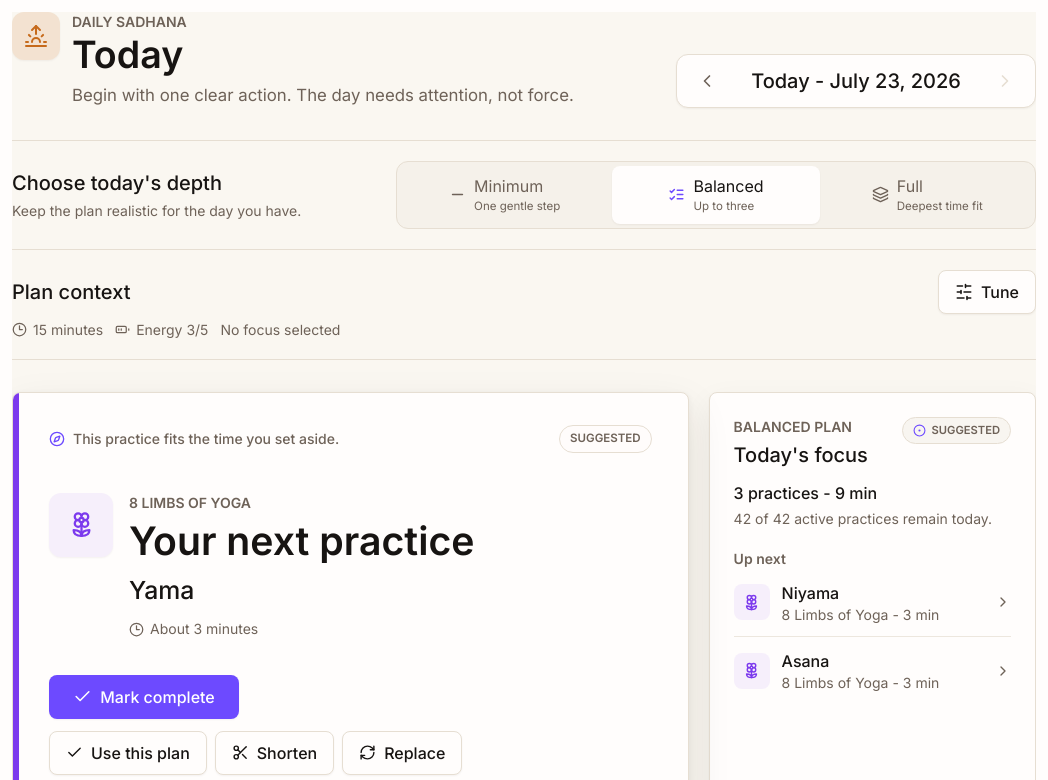
Test: TodayScreen › confirms, shortens, and replaces recommendations without recording completion
Click the button "Shorten" at x=274, y=753, box [215,731,334,775]
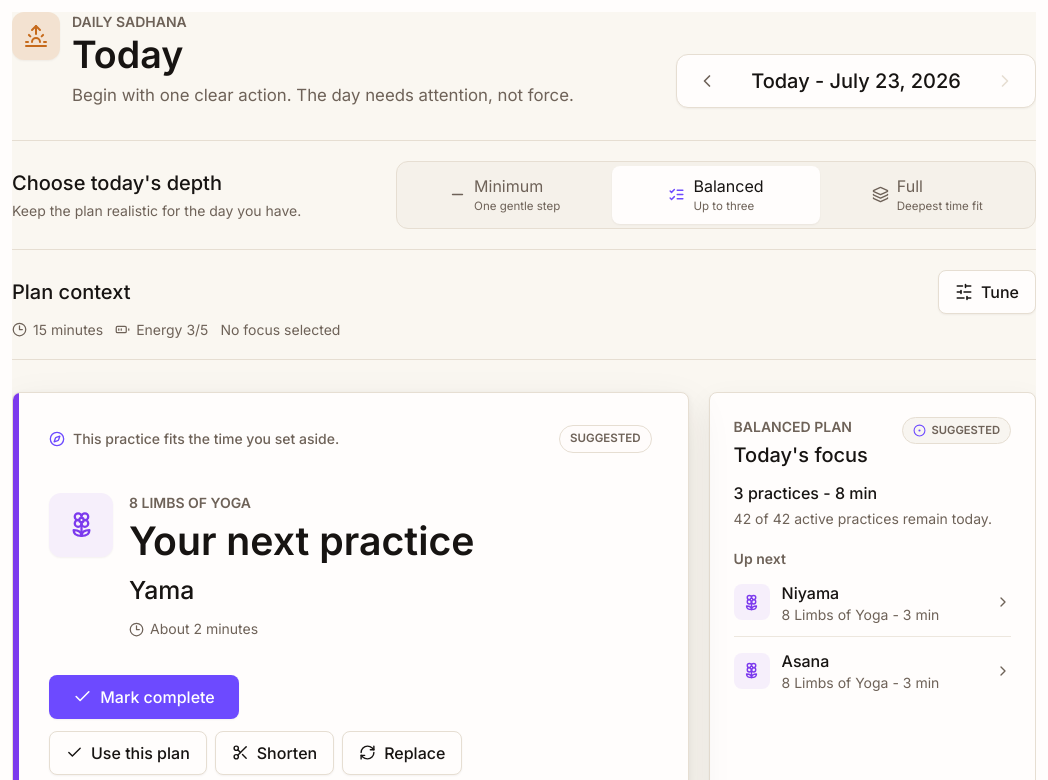
Click the button "Replace" at x=402, y=753, box [342,731,462,775]
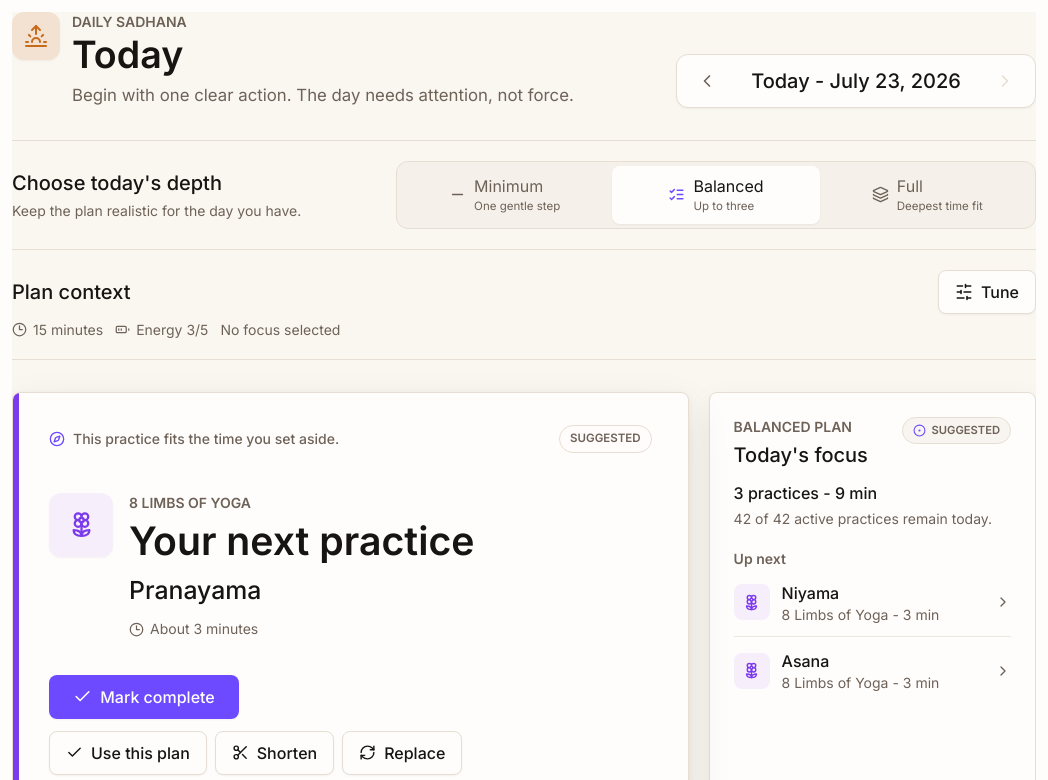
Click the button "Use this plan" at x=128, y=753, box [49,731,207,775]
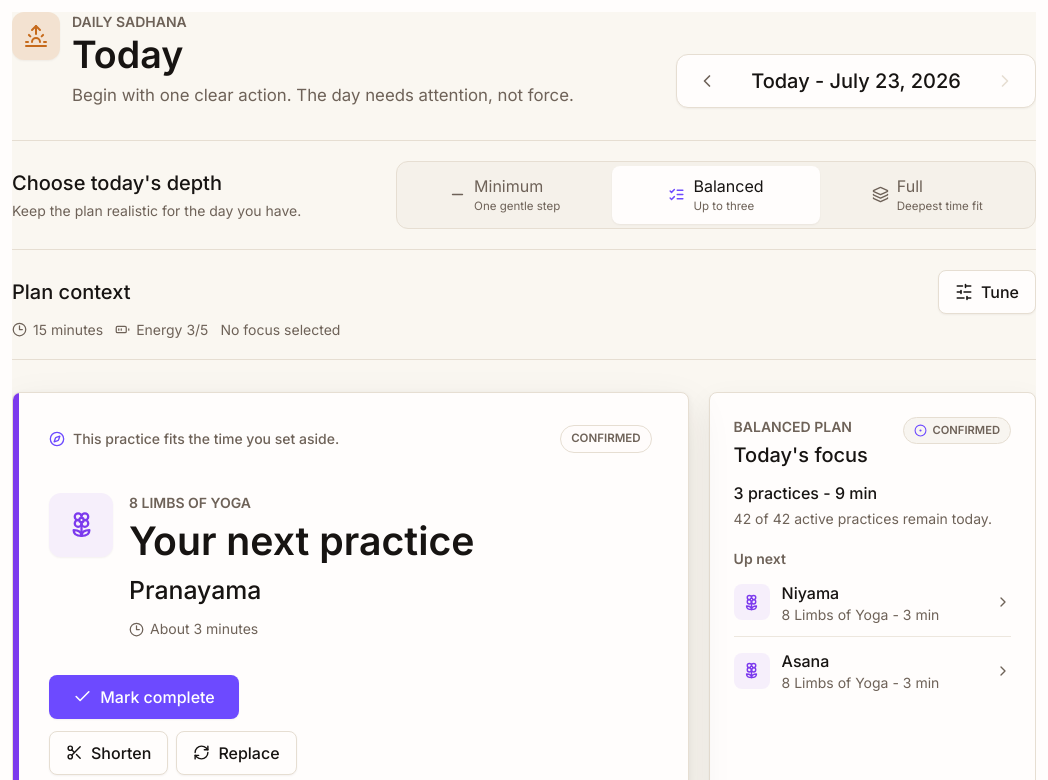
Check: the text "confirmed" is shown, box [902,417,1011,444]
